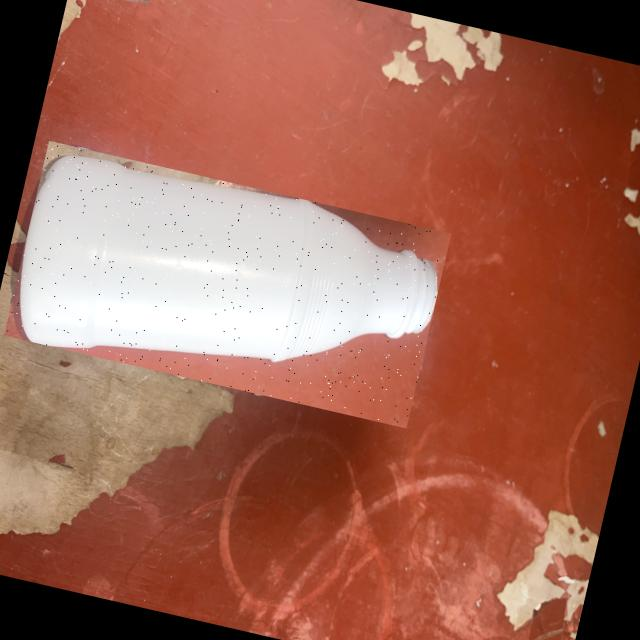HDPE_Bottle: (20, 156, 435, 361)
